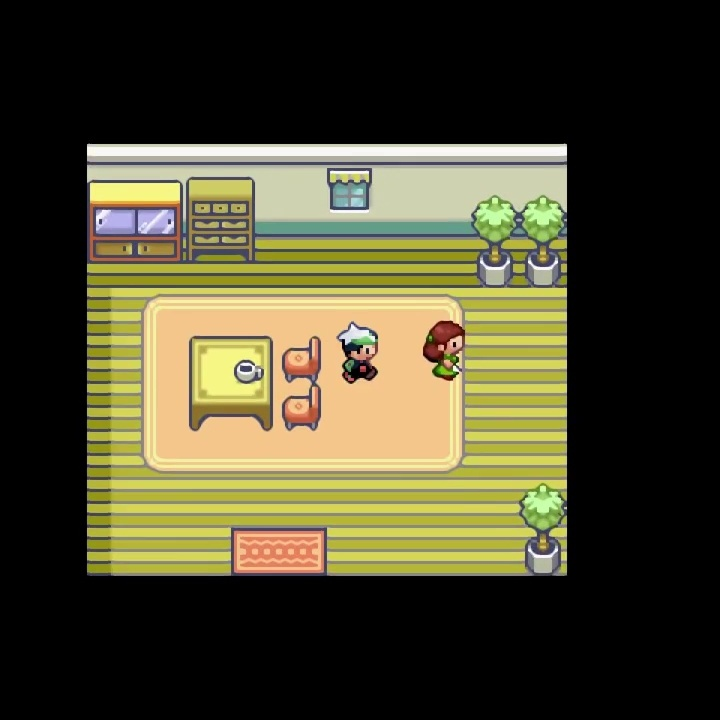agent: (335, 320, 381, 388)
exit: (228, 526, 331, 630)
npc: (419, 318, 467, 384)
